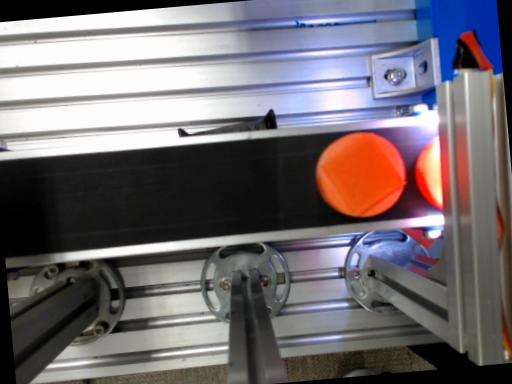Orange_Waper: (316, 132, 405, 216), (415, 136, 441, 209)
